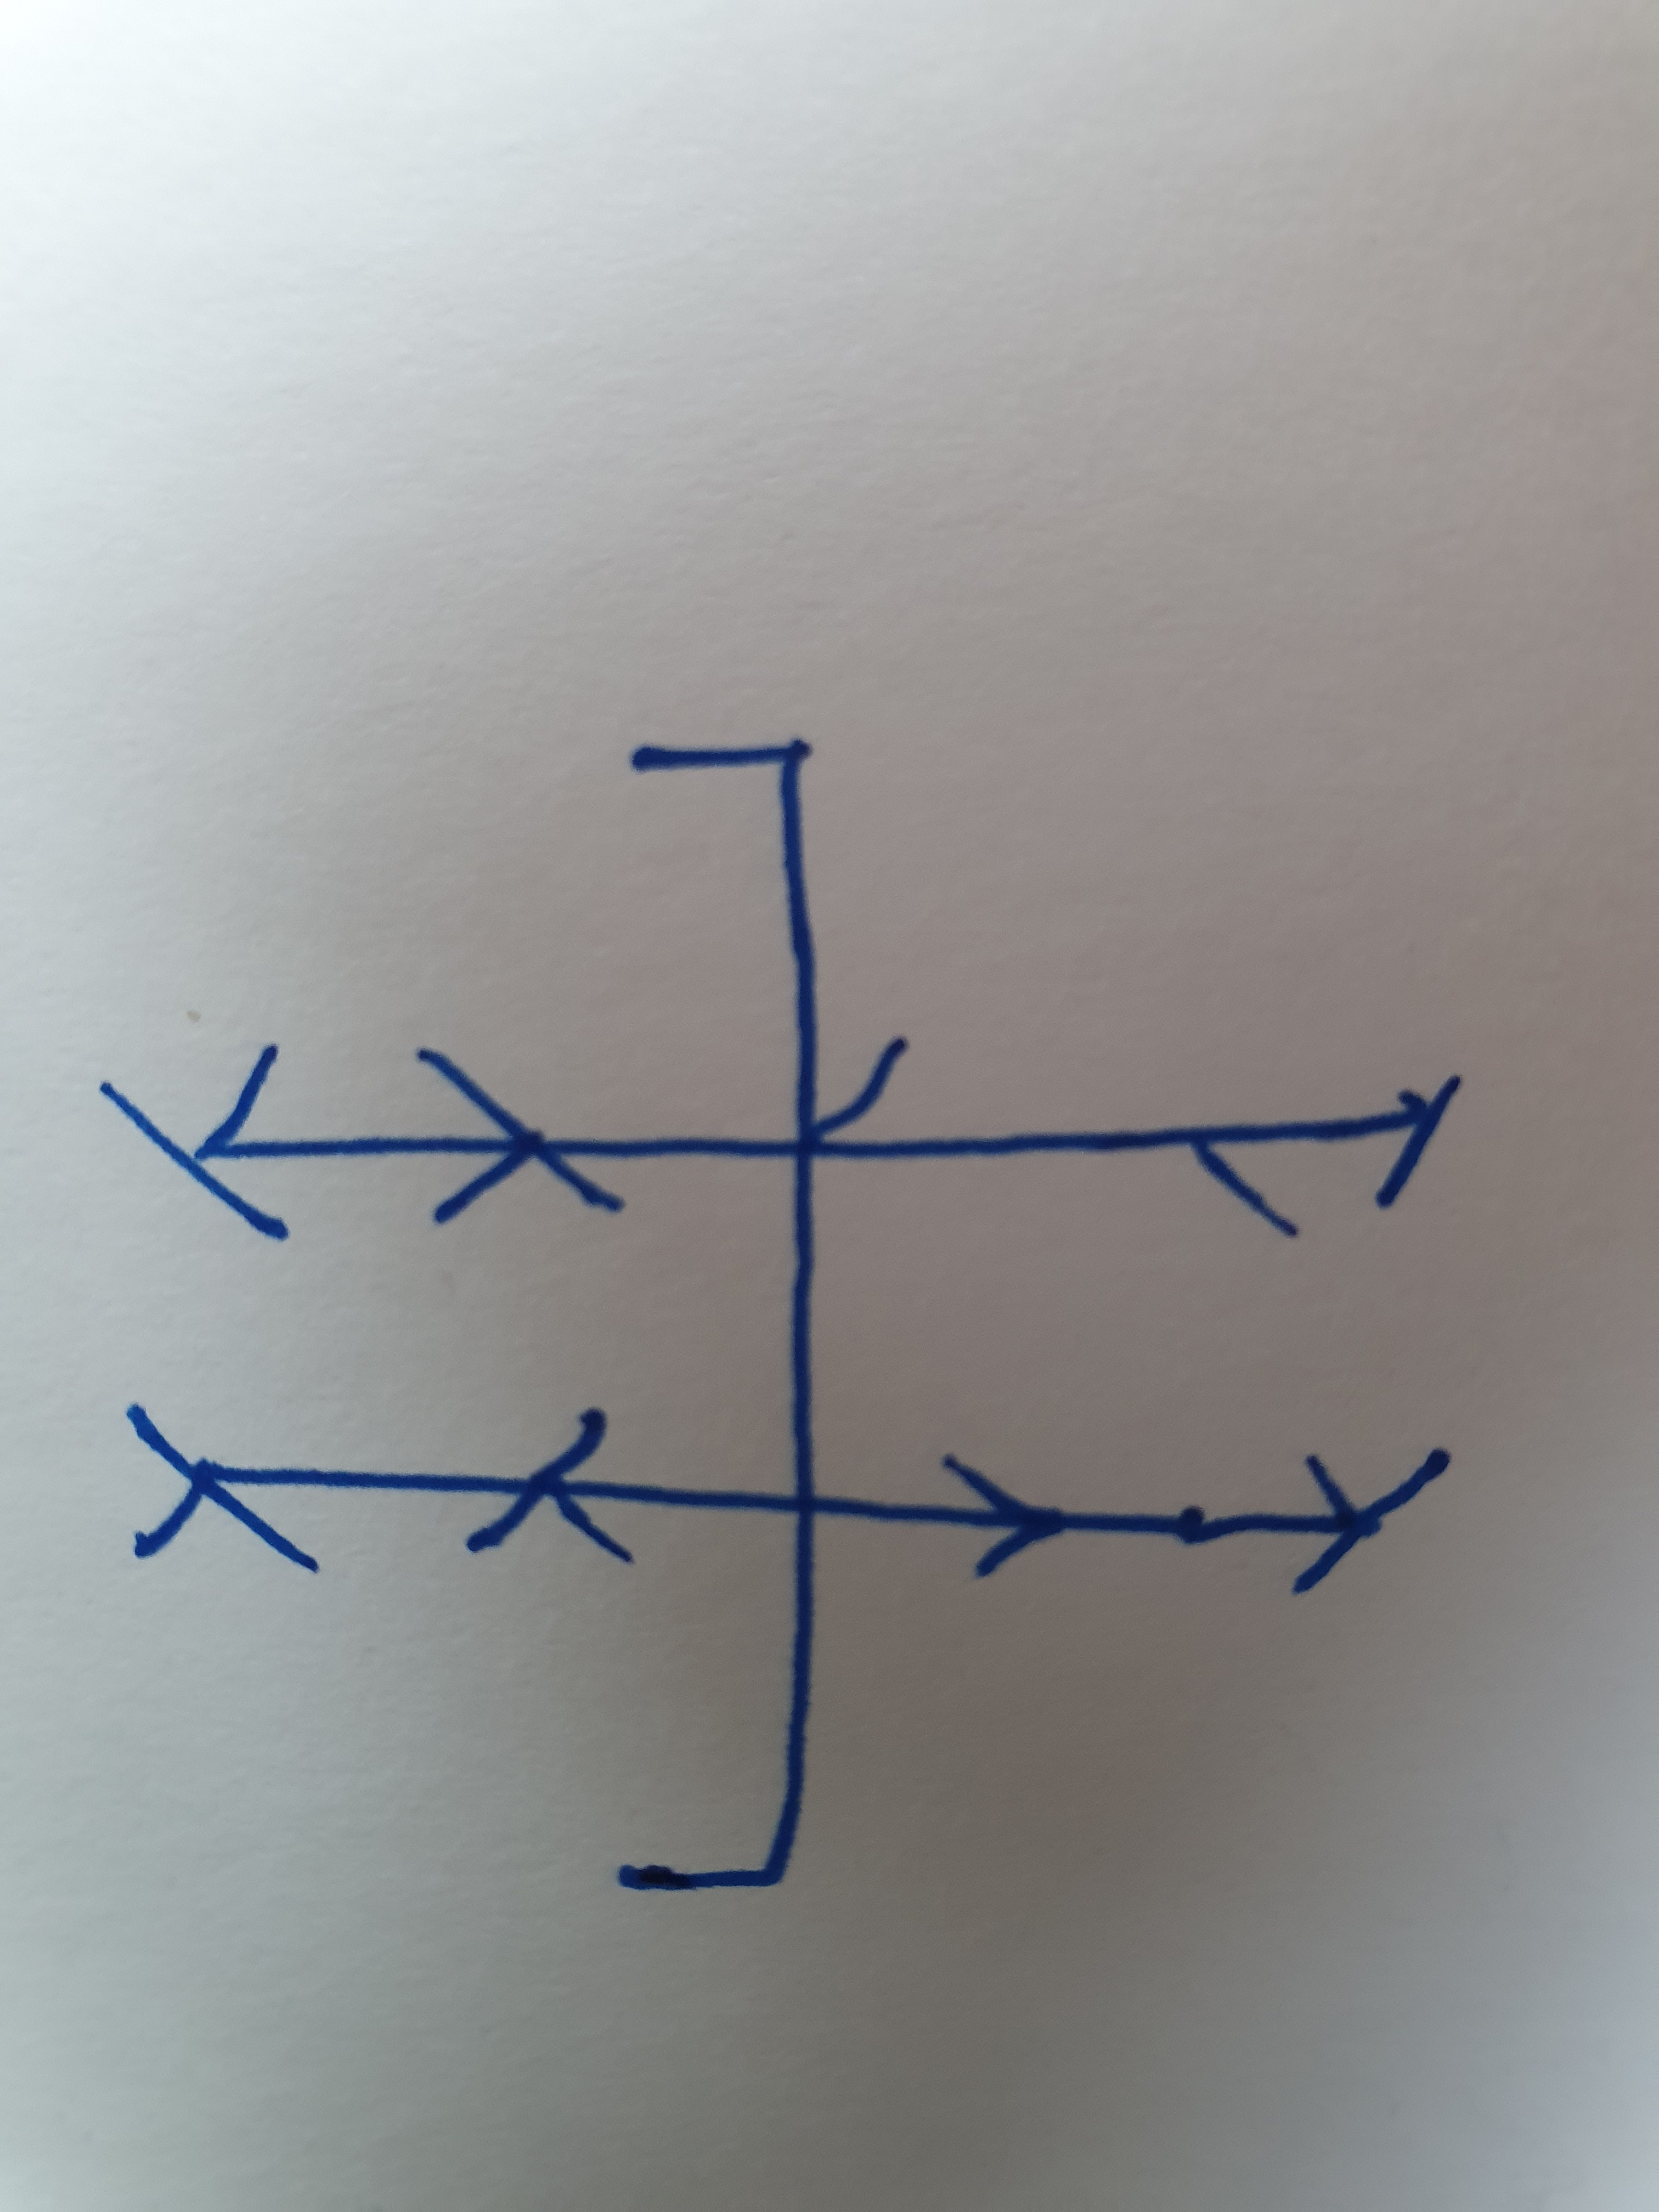Bar: (101, 1038, 1462, 1240), (129, 1404, 1453, 1599)
Barcode: (101, 735, 1462, 1890)
End: (627, 738, 821, 1120)
Start: (617, 1569, 817, 1888)
